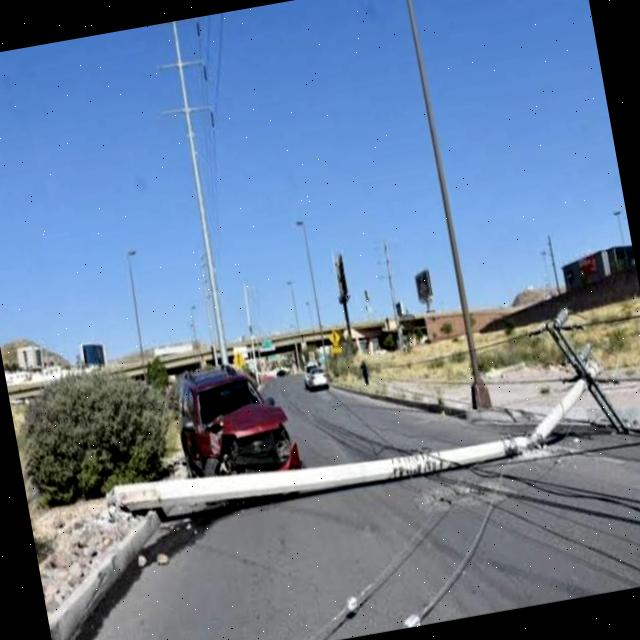Broken Pole: (104, 293, 638, 519)
